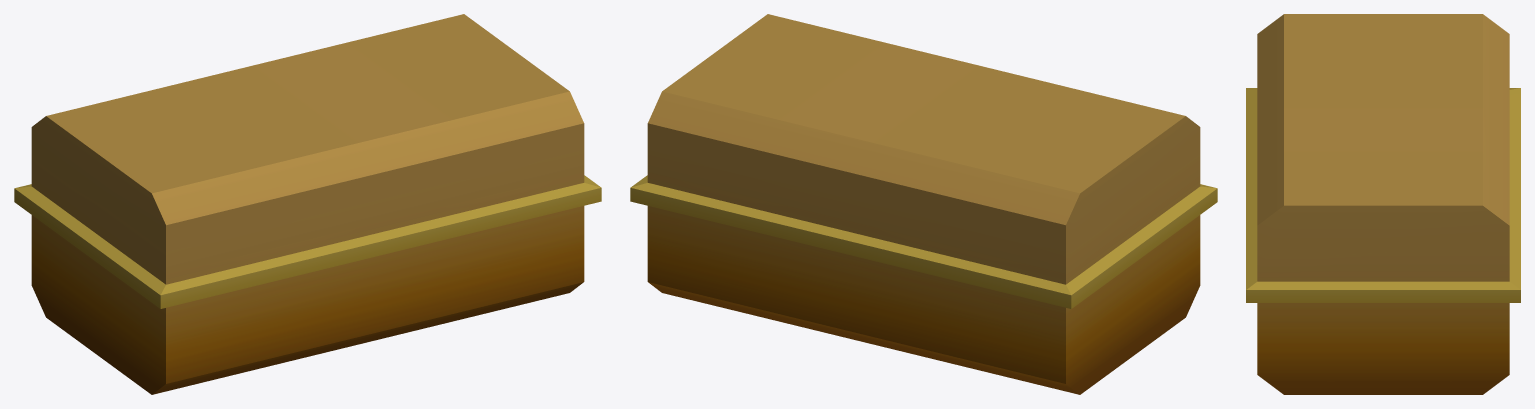
File: SM_MarketBoxes_05.fbx
3 views of the same model, side by side, from view 1: azimuth 30°, elevation 25°; view 2: azimuth 150°, elevation 25°; view 3: azimuth 270°, elevation 25° (orthographic). The views are drawn at different scales.
Visible parts, largest first — view 1: Cube.057; view 2: Cube.057; view 3: Cube.057.
Boxes of the visible parts, x1,y1,x2,y2 form: Cube.057: [14, 14, 601, 394]; Cube.057: [630, 14, 1217, 394]; Cube.057: [1246, 14, 1520, 394].
Size of the model in its own units: 113 by 49.26 by 64.77.
